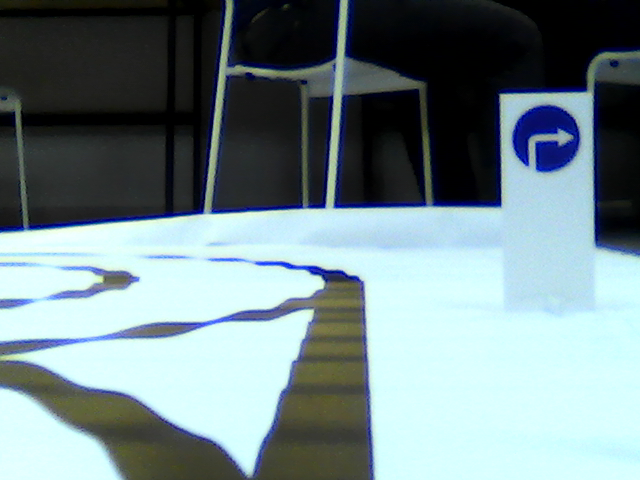Right: (513, 104, 580, 173)
